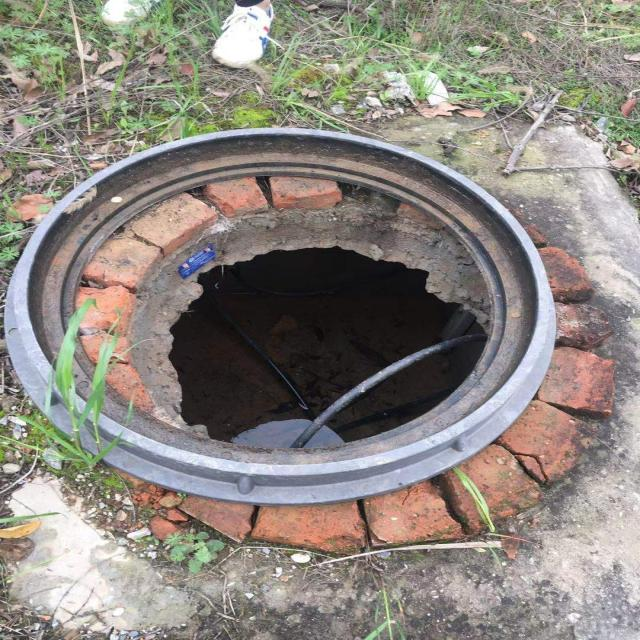Uncovered: (0, 128, 557, 507)
